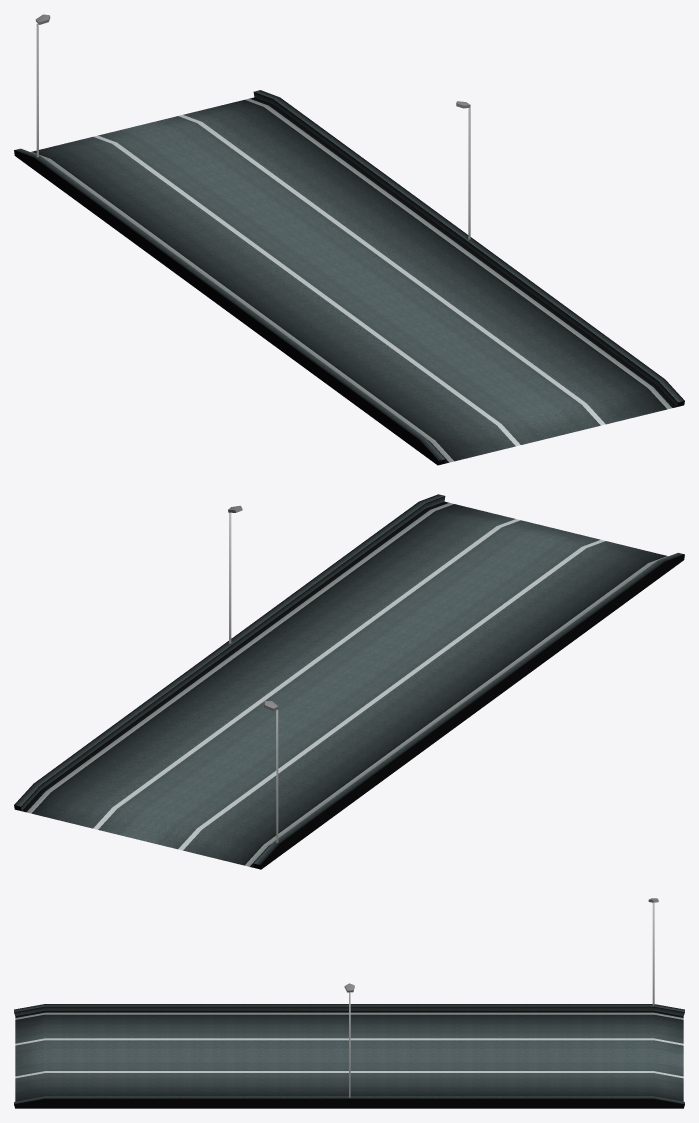
Rendered from K_KOKUDO.glb.
3 renders of one model, top to bottom at view 1: azimuth 30°, elevation 25°; view 2: azimuth 150°, elevation 25°; view 3: azimuth 270°, elevation 25°, orthographic. The views are drawn at different scales.
Parts seen in each view (by area): view 1: obj3; view 2: obj3; view 3: obj3, obj1.
Part boxes in pixels (x1,y1,x2,y2): obj3: [14, 90, 684, 465]; obj3: [14, 494, 684, 869]; obj3: [14, 1004, 684, 1108]; obj1: [648, 898, 658, 1005].
Size of the model in its own units: 37 by 21.65 by 110.
Materials: 6 (4 with a texture image).
